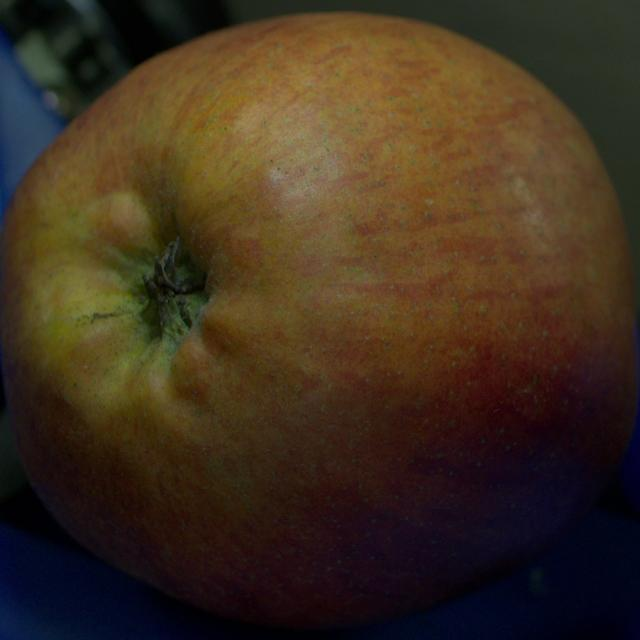apple: (0, 14, 638, 626)
